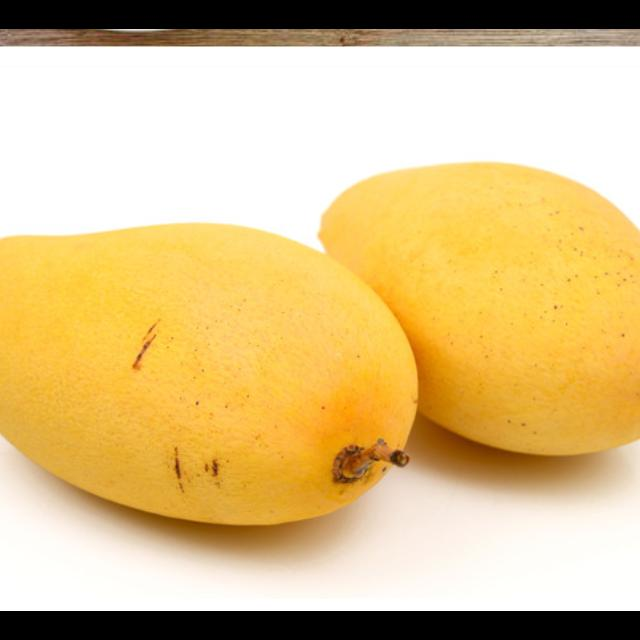mango: (0, 216, 422, 525), (316, 159, 640, 459)
